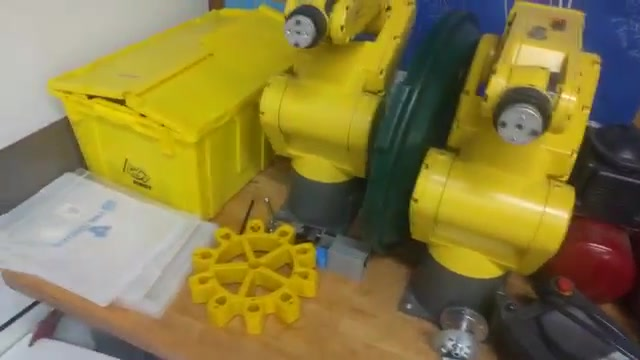gear: (187, 220, 316, 337)
